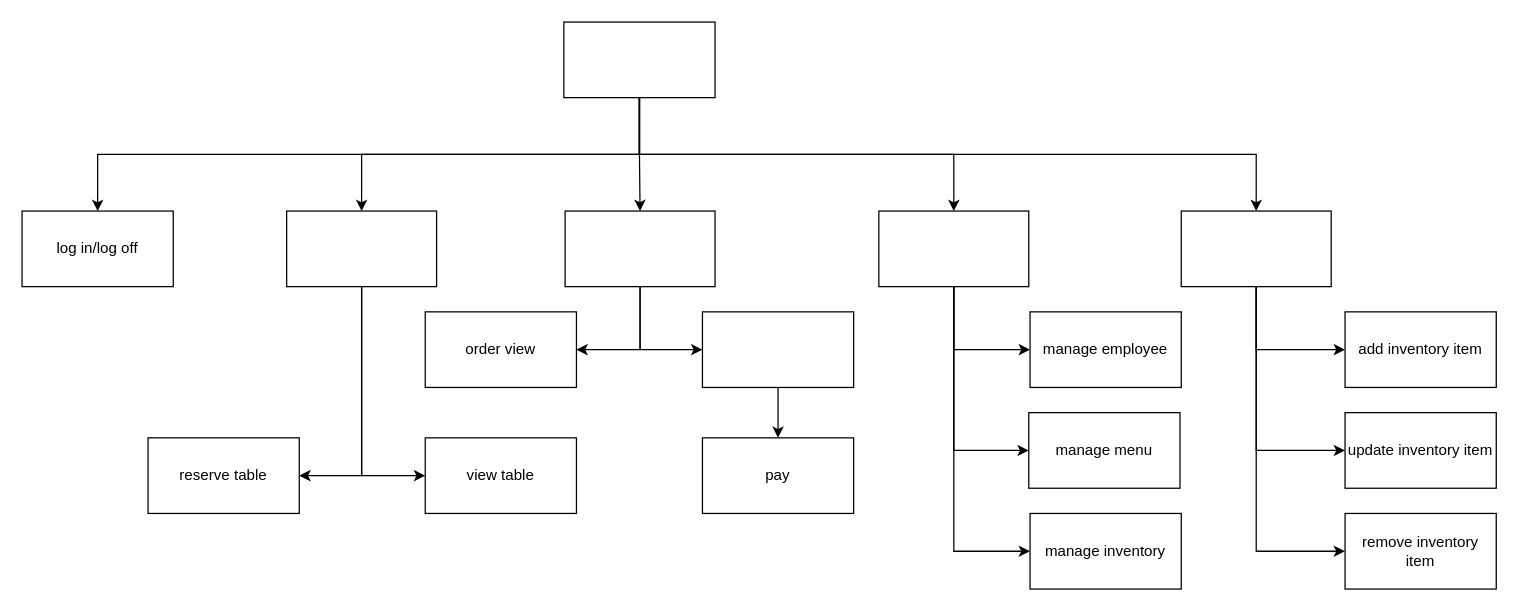
Some shapes in this 1518 by 611 pixel diagram are drawn without their labels. The shapes that lost their labels are listed below. From the top down, each one's centre as x and y in pixels, then its label:
At (x=639, y=59): "restaurant".
At (x=361, y=248): "table".
At (x=639, y=248): "order".
At (x=953, y=248): "manage".
At (x=1255, y=248): "Inventory".
At (x=777, y=349): "place order".
